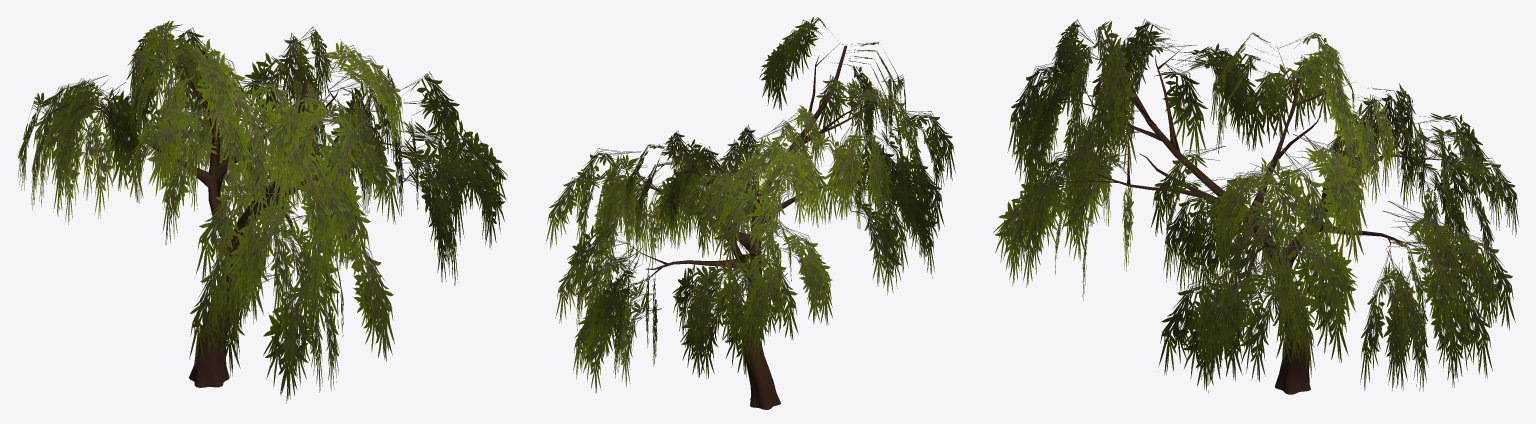
Rendered from Willow1.fbx.
3 renders of one model, left to right at view 1: azimuth 30°, elevation 25°; view 2: azimuth 150°, elevation 25°; view 3: azimuth 270°, elevation 25°, orthographic. The views are drawn at different scales.
Visible parts, largest first — view 1: 6-Willow_leaves, 6-Willow_trunk; view 2: 6-Willow_leaves, 6-Willow_trunk; view 3: 6-Willow_leaves, 6-Willow_trunk.
Part boxes in pixels (box(x1,y1,x2,y2)): 6-Willow_leaves: box(17, 20, 507, 403); 6-Willow_trunk: box(70, 55, 430, 387); 6-Willow_leaves: box(545, 17, 955, 393); 6-Willow_trunk: box(616, 43, 875, 409); 6-Willow_leaves: box(993, 19, 1519, 393); 6-Willow_trunk: box(1070, 32, 1447, 394).
Size of the model in its own units: 1118 by 1078 by 1347.
